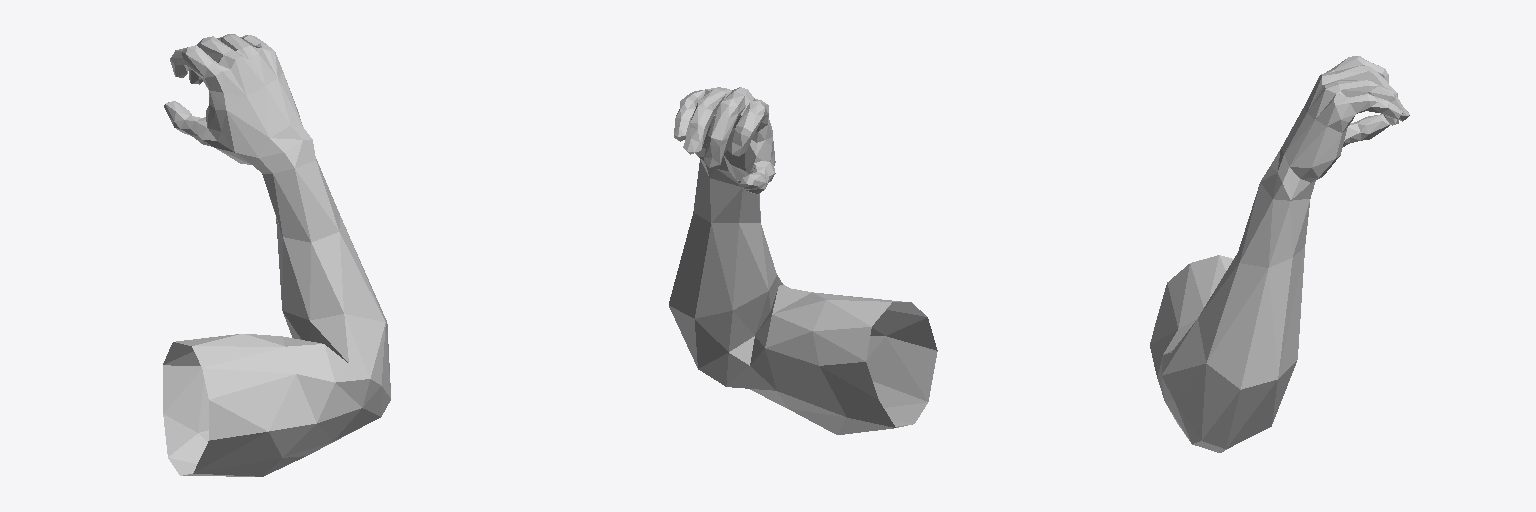
File: Arm.obj
3 renders of one model, left to right at view 1: azimuth 30°, elevation 25°; view 2: azimuth 150°, elevation 25°; view 3: azimuth 270°, elevation 25°, orthographic.
Parts seen in each view (by area): view 1: viewflashlight002; view 2: viewflashlight002; view 3: viewflashlight002.
Part boxes in pixels (x1,y1,x2,y2): viewflashlight002: (163, 34, 390, 476); viewflashlight002: (669, 87, 937, 434); viewflashlight002: (1150, 56, 1409, 452).
Bounding box in the file's own units: 10.08 × 16.23 × 10.19.